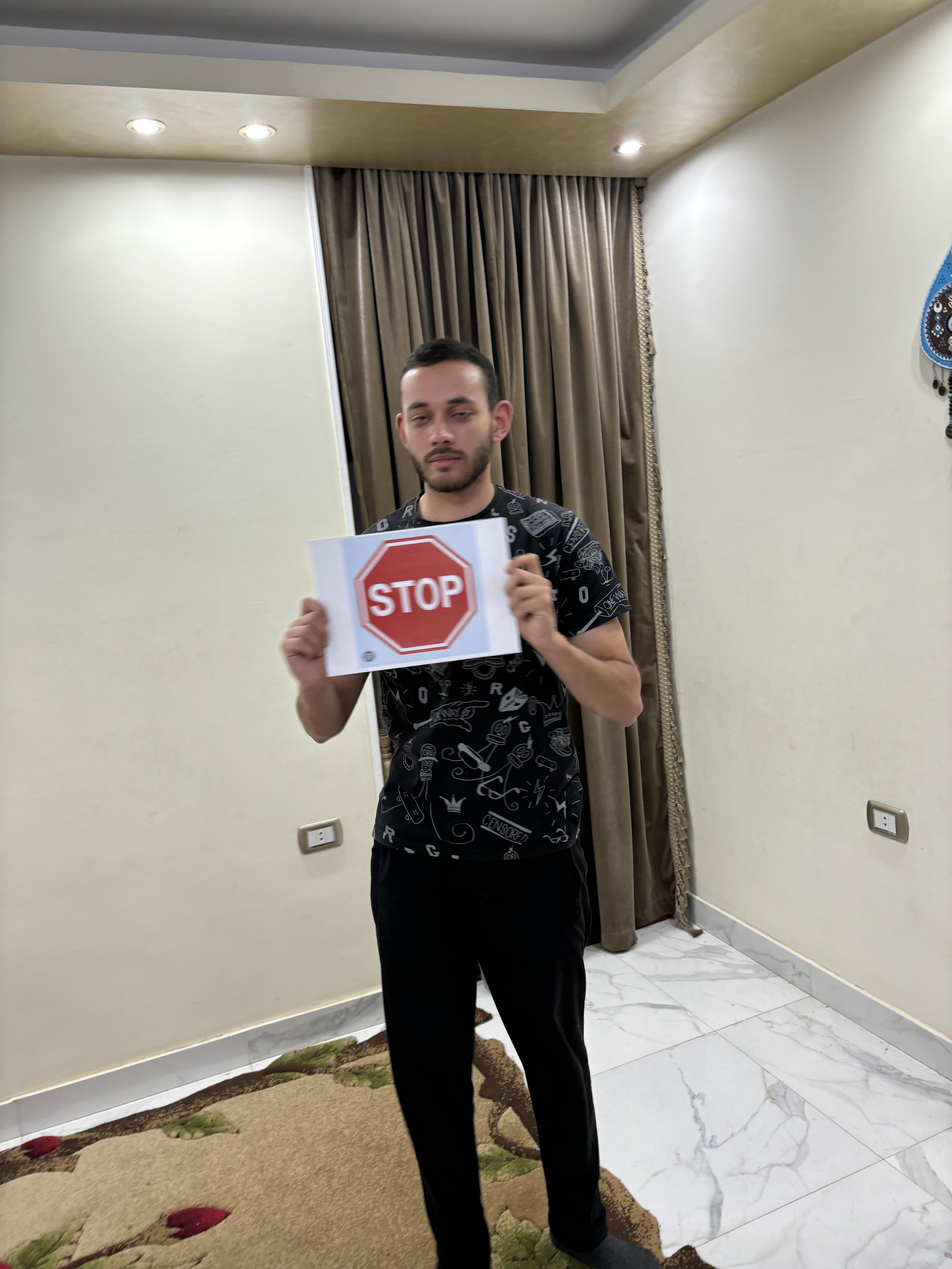Stop: (354, 525, 487, 664)
